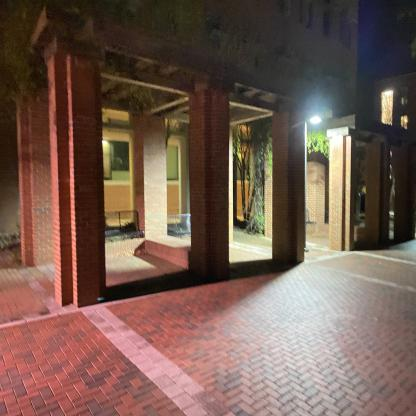eb2: (2, 1, 355, 240)
